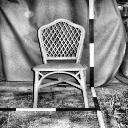chair_success: (23, 16, 91, 108)
